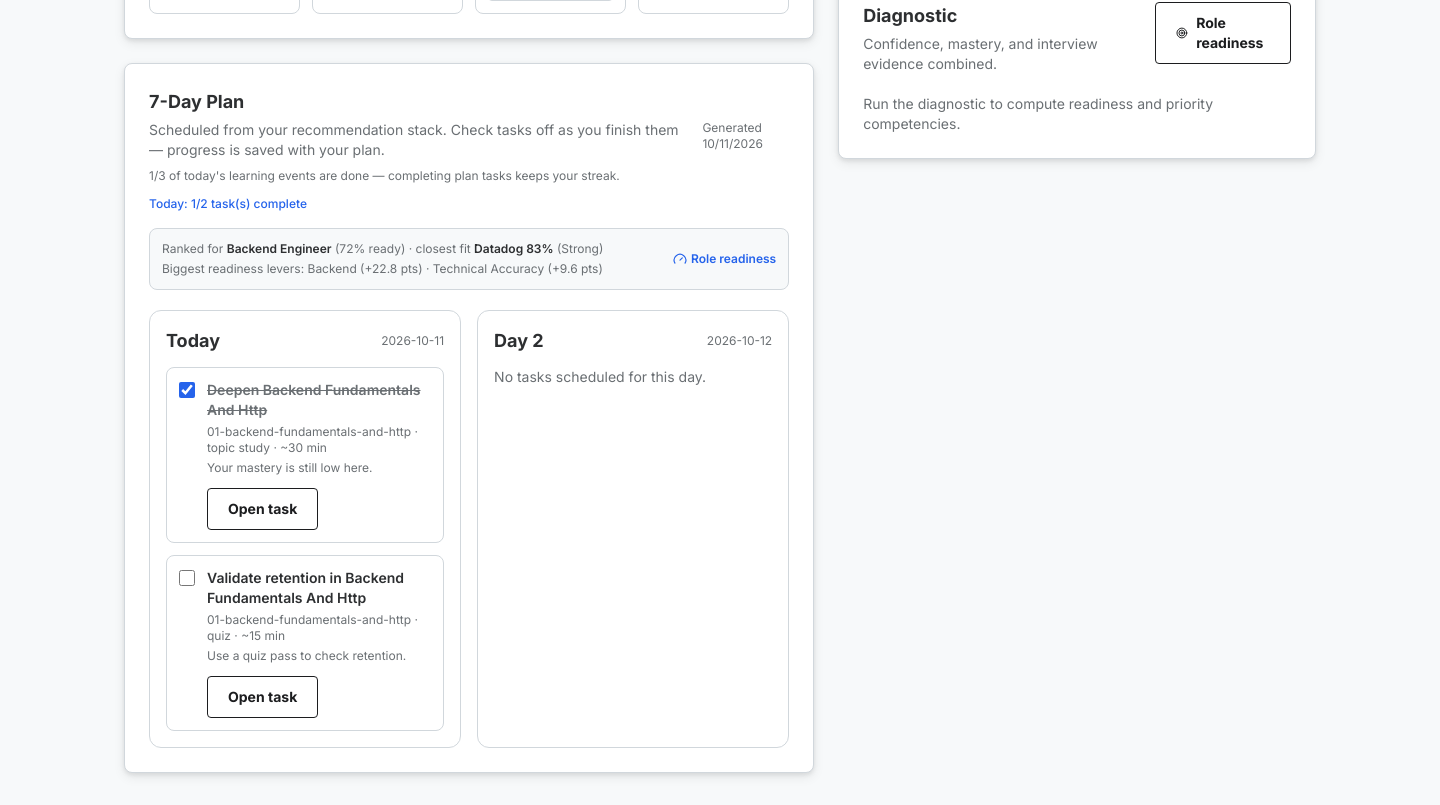
StudyPlanPage › completes an unchecked task through the API
(page scrolled)
Click the checkbox named "Mark \"Validate retention in Backend Fundamentals And Http\" a": (187, 578) [179, 570, 195, 586]
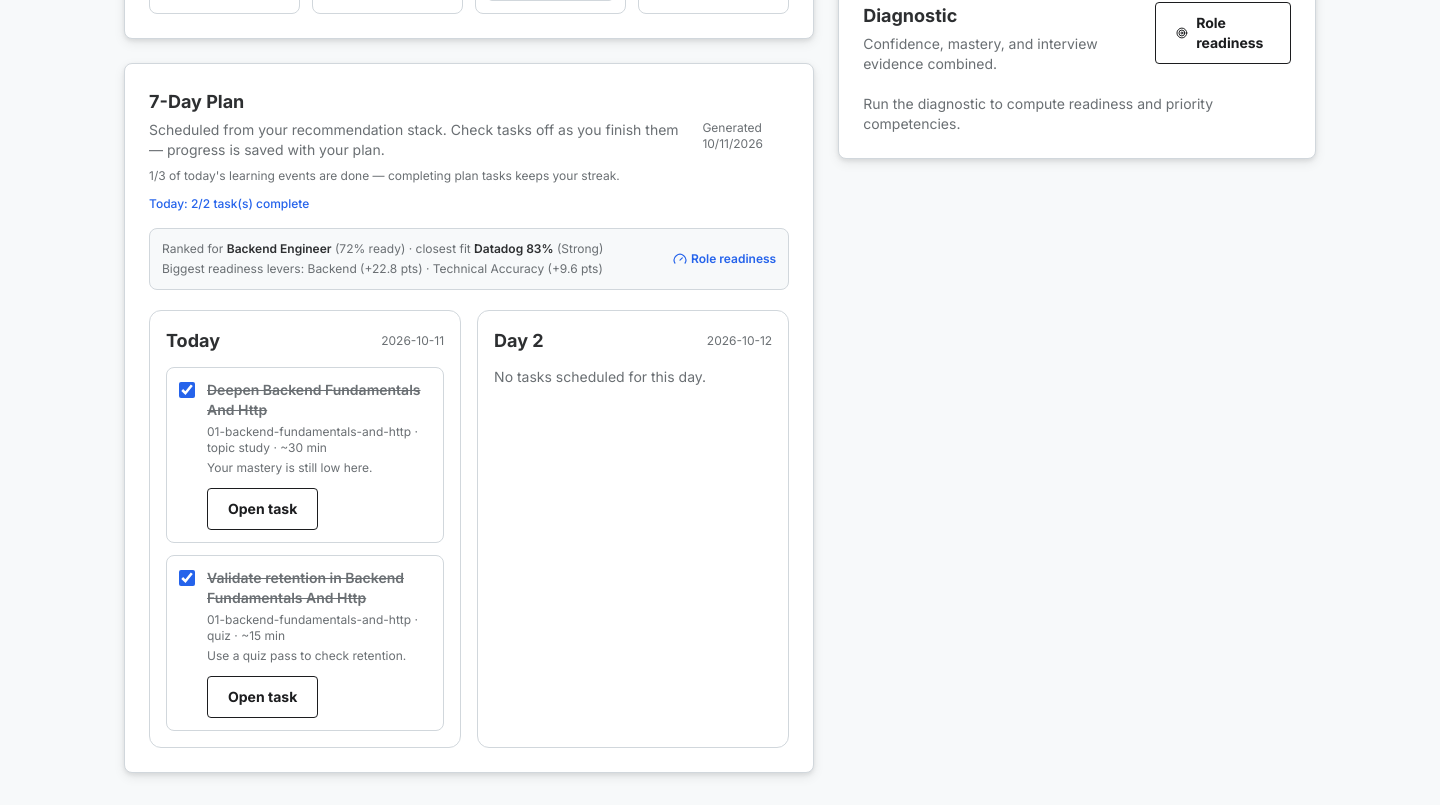
Check: the checkbox named "Mark \"Validate retention in Backend Fundamentals And Http\" a" is checked, box [179, 570, 195, 586]
Check: the text "Today: 2/2 task(s) complete" is shown, box [149, 196, 309, 211]
